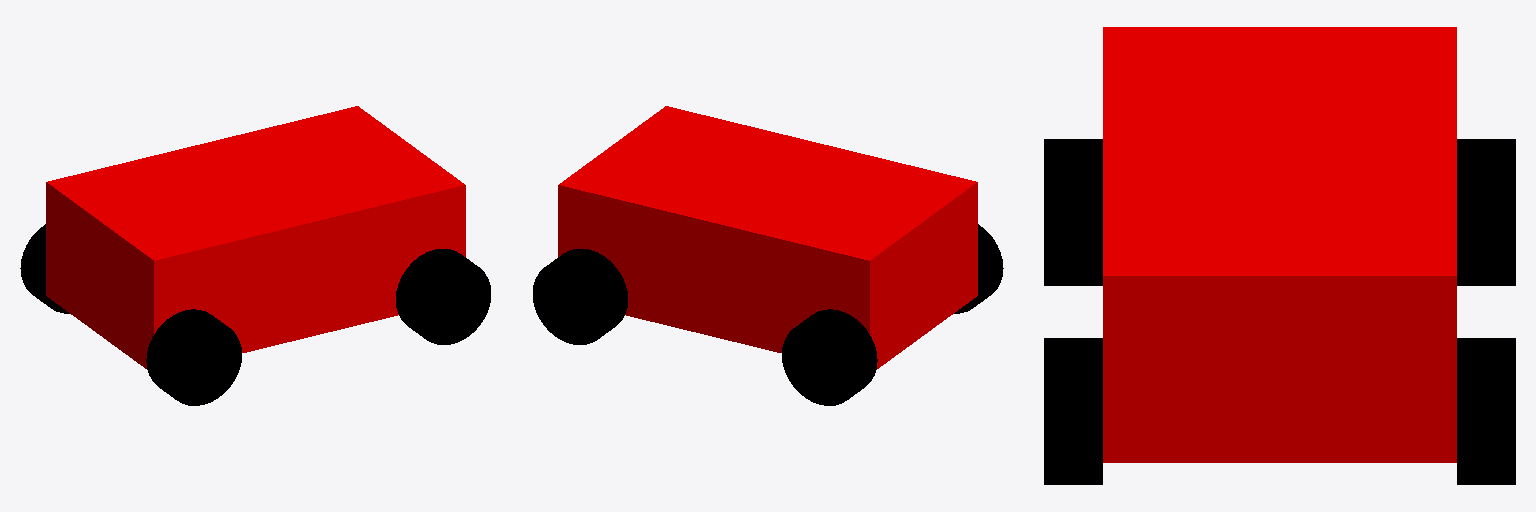
The robot description file, URDF, robot "my_car":
<!--
创建一个 
车体长0.2m  宽0.12 高0.07  
车轮半径 0.025m 宽0.02m 离地间距 0.15m

1.设置base_footprint_link 作为初始化link
2.设置base_link 作为底盘link
使用joint关联
设置车轮
车轮与base_link 通过joint关联
实现其他车轮
 -->

<robot name="my_car">
    <!-- 设置初始化link -->
    <link name="base_footprint_link">
        <visual>
            <geometry>
                <sphere radius="0.001"/>
            </geometry>
        </visual>
    </link>
 
    <!-- 设置底盘link -->
    <link name="base_link">
        <visual>
            <geometry>
                <box size="0.2 0.12 0.07"/>
            </geometry>
            <material name="red">
                <color rgba="1 0 0 0.5"/>
            </material>
        </visual>
    </link>

    <!-- 设置车轮link -->
    <link name="left_front_wheel_link">
        <visual>
            <geometry>
                <cylinder radius="0.025" length="0.02"/>
            </geometry>
            <material name="black">
                <color rgba="0 0 0 0.5"/>
            </material>
            <!-- 设置旋转 -->
            <origin rpy="1.5708 0 0"/>
        </visual>
    </link> 

    <link name="right_front_wheel_link">
        <visual>
            <geometry>
                <cylinder radius="0.025" length="0.02"/>
            </geometry>
            <material name="black">
                <color rgba="0 0 0 0.5"/>
            </material>
            <!-- 设置旋转 -->
            <origin rpy="1.5708 0 0"/>
        </visual>
    </link> 
    <link name="left_hou_wheel_link">
        <visual>
            <geometry>
                <cylinder radius="0.025" length="0.02"/>
            </geometry>
            <material name="black">
                <color rgba="0 0 0 0.5"/>
            </material>
            <!-- 设置旋转 -->
            <origin rpy="1.5708 0 0"/>
        </visual>
    </link> 

    <link name="right_hou_wheel_link">
        <visual>
            <geometry>
                <cylinder radius="0.025" length="0.02"/>
            </geometry>
            <material name="black">
                <color rgba="0 0 0 0.5"/>
            </material>
            <!-- 设置旋转 -->
            <origin rpy="1.5708 0 0"/>
        </visual>
    </link> 




    <!-- base_link与base_footprint_link的关节 -->
    <joint name="base_link2footprint" type="fixed">
    <!-- 连接的两个link 父标签为footprint_link 子标签为base_link 固定类型 -->
        <parent link="base_footprint_link"/>
        <child link="base_link"/>
    <!-- 关节的原点位置 平移量旋转度   上移  0.07除以2+0.15 -->
        <origin xyz="0.0 0.0 0.05" rpy="0 0 0"/>
    </joint>

    <joint name="left_front_wheel_joint" type="continuous">
        <parent link="base_link"/>
        <child link="left_front_wheel_link"/>
        <origin xyz="0.08 0.07 -0.025" rpy="0 0 0"/>
        <!-- 关节的旋转轴 -->
        <axis xyz="0 1 0"/>
    </joint>

    <joint name="right_front_wheel_joint" type="continuous">
        <parent link="base_link"/>
        <child link="right_front_wheel_link"/>
        <origin xyz="0.08 -0.07 -0.025" rpy="0 0 0"/>
        <!-- 关节的旋转轴 -->
        <axis xyz="0 1 0"/>
    </joint>

    <joint name="left_hou_wheel_joint" type="continuous">
        <parent link="base_link"/>
        <child link="left_hou_wheel_link"/>
        <origin xyz="-0.08 0.07 -0.025" rpy="0 0 0"/>
        <!-- 关节的旋转轴 -->
        <axis xyz="0 1 0"/>
    </joint>
    <joint name="right_hou_wheel_joint" type="continuous">
        <parent link="base_link"/>
        <child link="right_hou_wheel_link"/>
        <origin xyz="-0.08 -0.07 -0.025" rpy="0 0 0"/>
        <!-- 关节的旋转轴 -->
        <axis xyz="0 1 0"/>
    </joint>



 </robot>

    

--- Facts derived from the render (not from the file) ---
Views: 3 orthographic renders of the robot side by side, from view 1: azimuth 30°, elevation 25°; view 2: azimuth 150°, elevation 25°; view 3: azimuth 270°, elevation 25°.
Robot: my_car — 6 links, 5 joints (4 continuous, 1 fixed); root link base_footprint_link; default pose: every joint at zero.
Visible links, largest first — view 1: base_link, right_hou_wheel_link, right_front_wheel_link, left_hou_wheel_link; view 2: base_link, left_hou_wheel_link, left_front_wheel_link, right_hou_wheel_link; view 3: base_link, left_front_wheel_link, right_front_wheel_link, left_hou_wheel_link, right_hou_wheel_link.
Boxes of the visible links, x1,y1,x2,y2 form: base_link: (46,106,465,368); right_hou_wheel_link: (146,309,241,405); right_front_wheel_link: (396,249,490,344); left_hou_wheel_link: (20,224,69,313); base_link: (558,106,977,368); left_hou_wheel_link: (782,309,877,405); left_front_wheel_link: (533,249,627,344); right_hou_wheel_link: (954,224,1003,313); base_link: (1103,27,1456,462); left_front_wheel_link: (1457,338,1515,484); right_front_wheel_link: (1044,338,1102,484); left_hou_wheel_link: (1457,139,1515,285); right_hou_wheel_link: (1044,139,1102,285).
Bounding box of the posed robot: 0.21 × 0.16 × 0.086 m (x, y, z).
Geometry: primitives only (box / cylinder / sphere), no mesh files.
